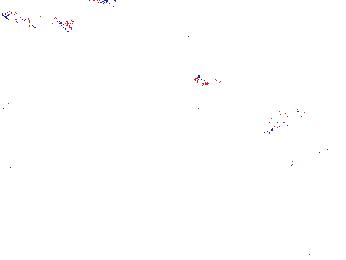X-ray fish: (247, 61, 295, 93), (320, 100, 346, 128)
red belly glassfish: (192, 72, 226, 88), (181, 32, 196, 48)
redtail glassfish: (1, 6, 76, 37), (258, 102, 304, 135)
siberian prawn: (32, 218, 108, 254)
